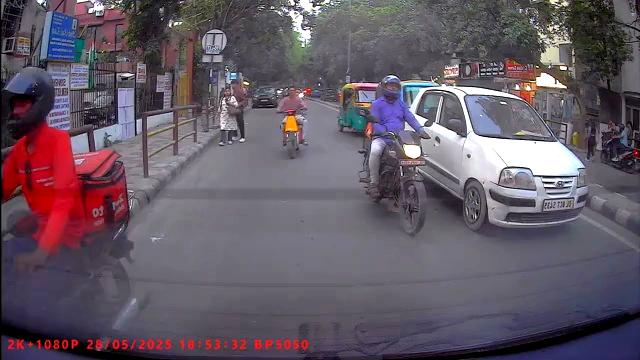motorcycle_with_helmet: (357, 72, 432, 238)
motorcycle_without_helmet: (279, 86, 310, 161)
